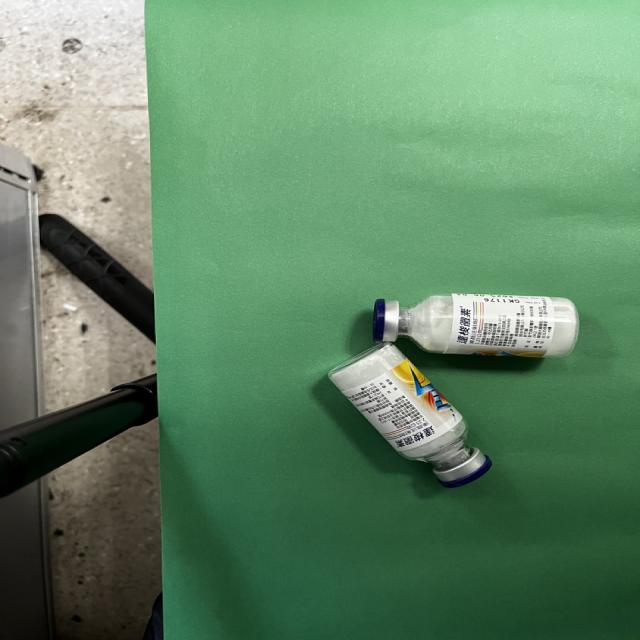Vials: (329, 342, 491, 488), (373, 294, 579, 357)
